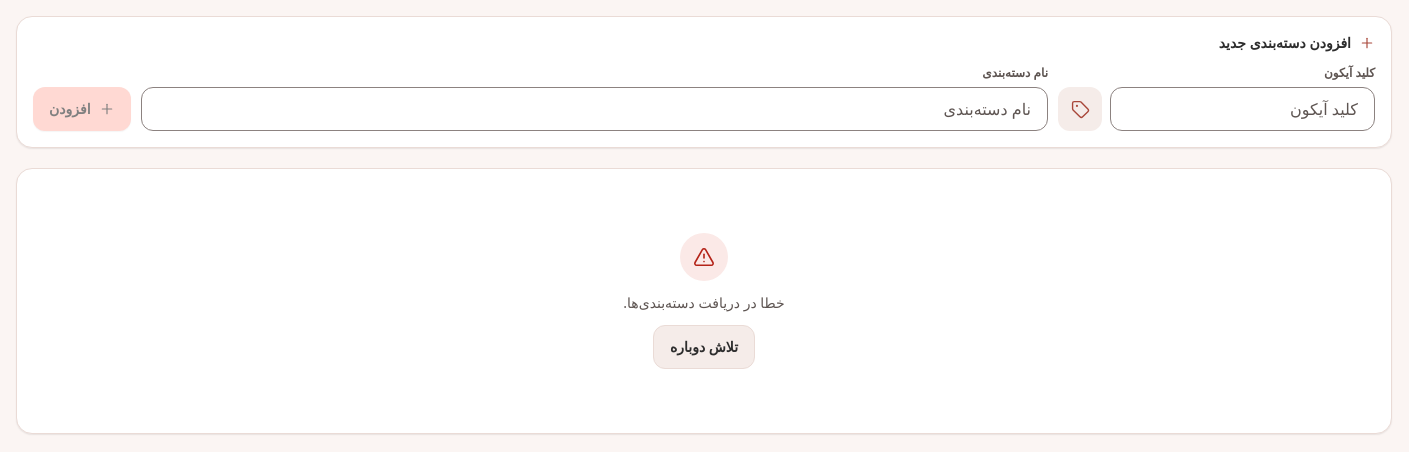
Test: CategoriesView load error › shows a distinct error state (not the empty state) when the fetch fails, and retry reloads
expect the element with test id "load-error" is shown: met, box [16,168,1392,434]
Click the button with test id "retry-load" at coordinates (704, 347), box [653,325,755,369]
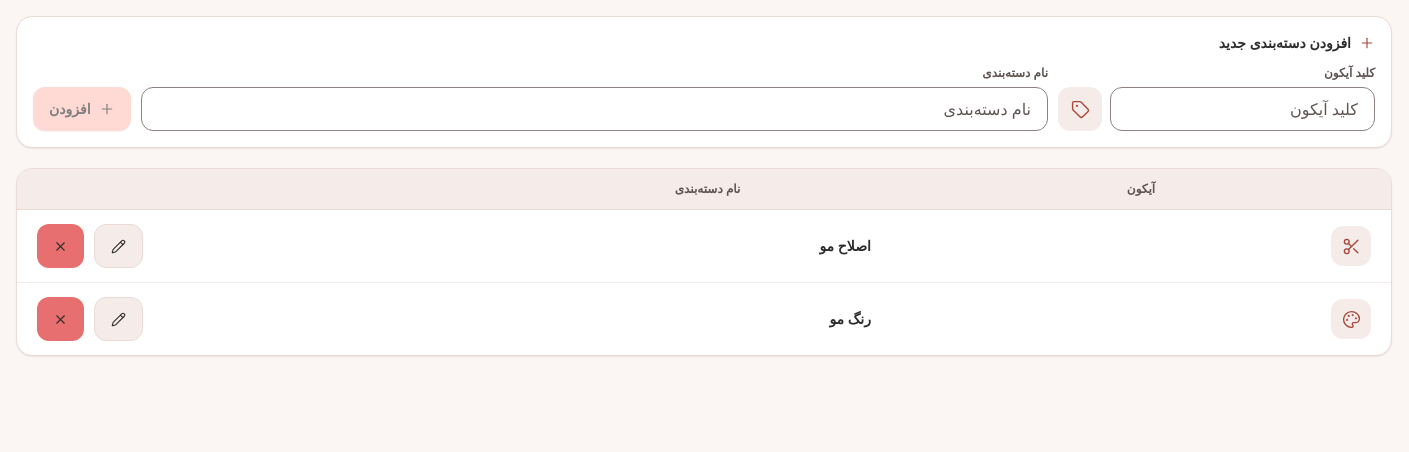
expect the text "اصلاح مو" is shown: met, box [524,210,891,282]
